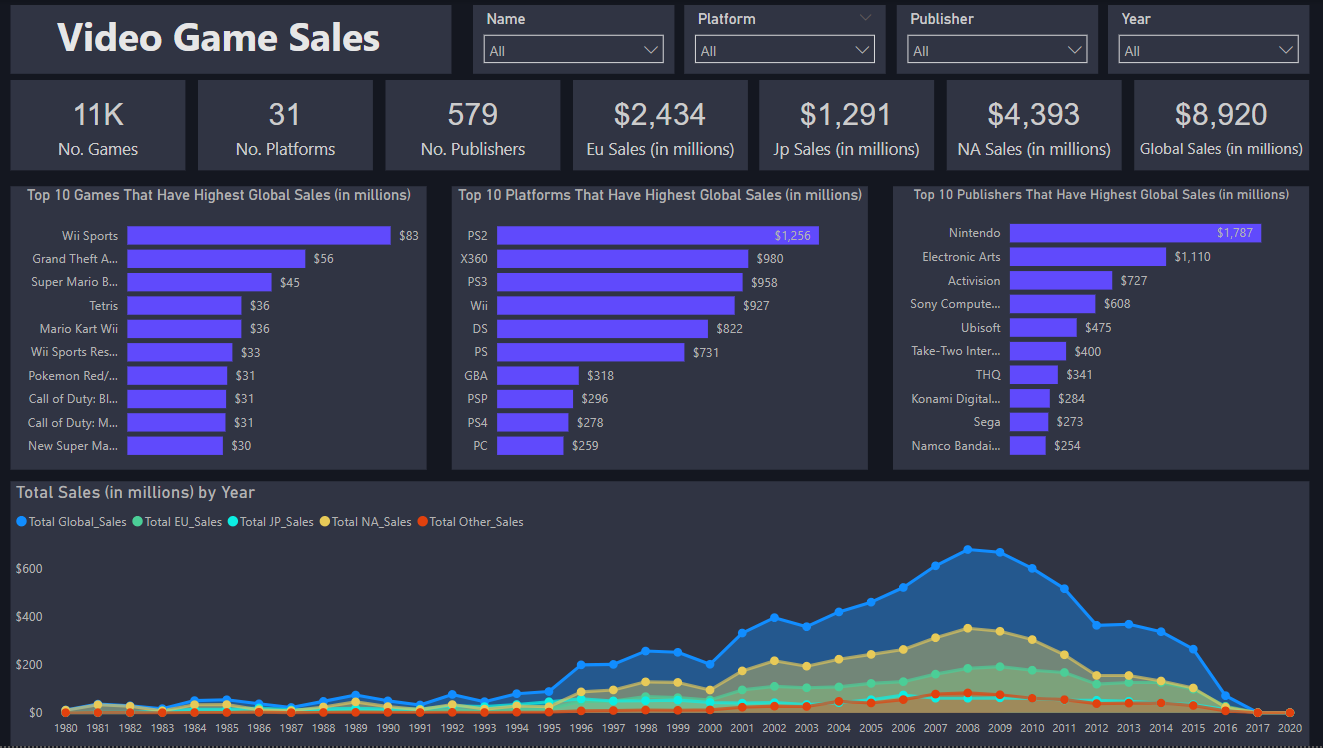

This screenshot's page, from the dashboard's own definition file:
{"tool":"powerbi","page":{"name":"Video Games Sales","canvas":[1280,720],"ordinal":0},"visuals":[{"type":"card","fields":{"Values":["vgsales.No. Games"]},"box":[12.1,77.2,168.9,86.9],"z":0},{"type":"textbox","box":[12.1,4.8,425.9,66.4],"z":1000},{"type":"card","fields":{"Values":["vgsales.No. Platforms"]},"box":[192.8,77.2,168.9,86.9],"z":2000},{"type":"card","fields":{"Values":["vgsales.No. Publishers"]},"box":[373.6,77.2,168.9,86.9],"z":3000},{"type":"card","fields":{"Values":["vgsales.Total EU_Sales"]},"box":[554.4,77.2,168.9,86.9],"z":4000},{"type":"card","fields":{"Values":["vgsales.Total JP_Sales"]},"box":[735.1,77.2,168.9,86.9],"z":5000},{"type":"card","fields":{"Values":["vgsales.Total NA_Sales"]},"box":[915.9,77.2,168.9,86.9],"z":6000},{"type":"card","fields":{"Values":["vgsales.Total Global_Sales"]},"box":[1096.7,77.2,168.9,86.9],"z":7000},{"type":"barChart","title":"Top 10 Games That Have Highest Global Sales (in millions)","fields":{"Category":["vgsales.Name"],"Y":["vgsales.Total Global_Sales"]},"box":[12.1,179.8,401.7,273.9],"z":8000},{"type":"barChart","title":"Top 10 Platforms That Have Highest Global Sales (in millions)","fields":{"Category":["vgsales.Platform"],"Y":["vgsales.Total Global_Sales"]},"box":[437.9,179.8,401.7,273.9],"z":9000},{"type":"barChart","title":"Top 10 Publishers That Have Highest Global Sales (in millions)","fields":{"Category":["vgsales.Publisher"],"Y":["vgsales.Total Global_Sales"]},"box":[863.8,179.8,401.7,273.9],"z":10000},{"type":"lineChart","title":"Total Sales (in millions) by Year","fields":{"Category":["vgsales.Year"],"Y":["vgsales.Total Global_Sales","vgsales.Total EU_Sales","vgsales.Total JP_Sales","vgsales.Total NA_Sales","vgsales.Total Other_Sales"]},"box":[12.1,464.5,1253.5,255.8],"z":11000},{"type":"slicer","fields":{"Values":["vgsales.Name"]},"box":[458.4,4.8,194.2,66.4],"z":12000},{"type":"slicer","fields":{"Values":["vgsales.Platform"]},"box":[662.7,4.8,194.2,66.4],"z":13000},{"type":"slicer","fields":{"Values":["vgsales.Publisher"]},"box":[867,4.8,194.2,66.4],"z":14000},{"type":"slicer","fields":{"Values":["vgsales.Year"]},"box":[1071.3,4.8,194.2,66.4],"z":15000}]}

Visuals, with their boxes in screenshot pixels (x1, y1, x2, y2), scaled from the page's 1280x720 canvas onto the 1323x748 screenshot:
card - vgsales.No. Games: <bbox>13, 80, 187, 170</bbox>
textbox: <bbox>13, 5, 453, 74</bbox>
card - vgsales.No. Platforms: <bbox>199, 80, 374, 170</bbox>
card - vgsales.No. Publishers: <bbox>386, 80, 561, 170</bbox>
card - vgsales.Total EU_Sales: <bbox>573, 80, 748, 170</bbox>
card - vgsales.Total JP_Sales: <bbox>760, 80, 934, 170</bbox>
card - vgsales.Total NA_Sales: <bbox>947, 80, 1121, 170</bbox>
card - vgsales.Total Global_Sales: <bbox>1134, 80, 1308, 170</bbox>
"Top 10 Games That Have Highest Global Sales (in millions)" barChart: <bbox>13, 187, 428, 471</bbox>
"Top 10 Platforms That Have Highest Global Sales (in millions)" barChart: <bbox>453, 187, 868, 471</bbox>
"Top 10 Publishers That Have Highest Global Sales (in millions)" barChart: <bbox>893, 187, 1308, 471</bbox>
"Total Sales (in millions) by Year" lineChart: <bbox>13, 483, 1308, 747</bbox>
slicer - vgsales.Name: <bbox>474, 5, 675, 74</bbox>
slicer - vgsales.Platform: <bbox>685, 5, 886, 74</bbox>
slicer - vgsales.Publisher: <bbox>896, 5, 1097, 74</bbox>
slicer - vgsales.Year: <bbox>1107, 5, 1308, 74</bbox>
